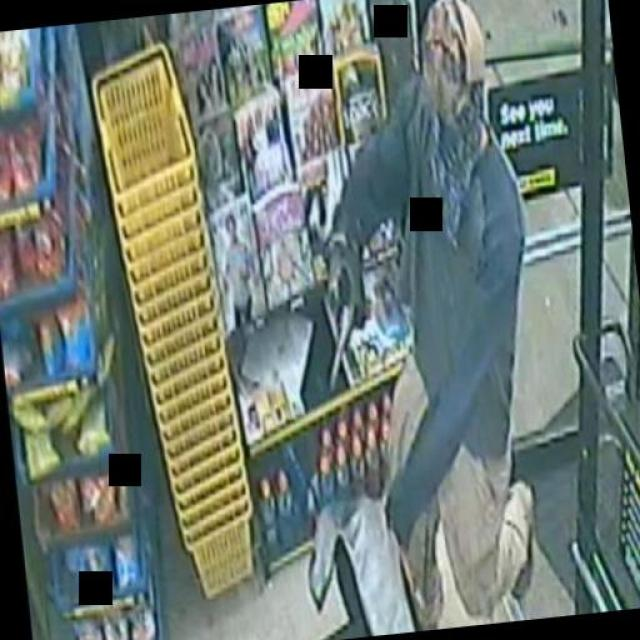gun: (310, 265, 366, 387)
